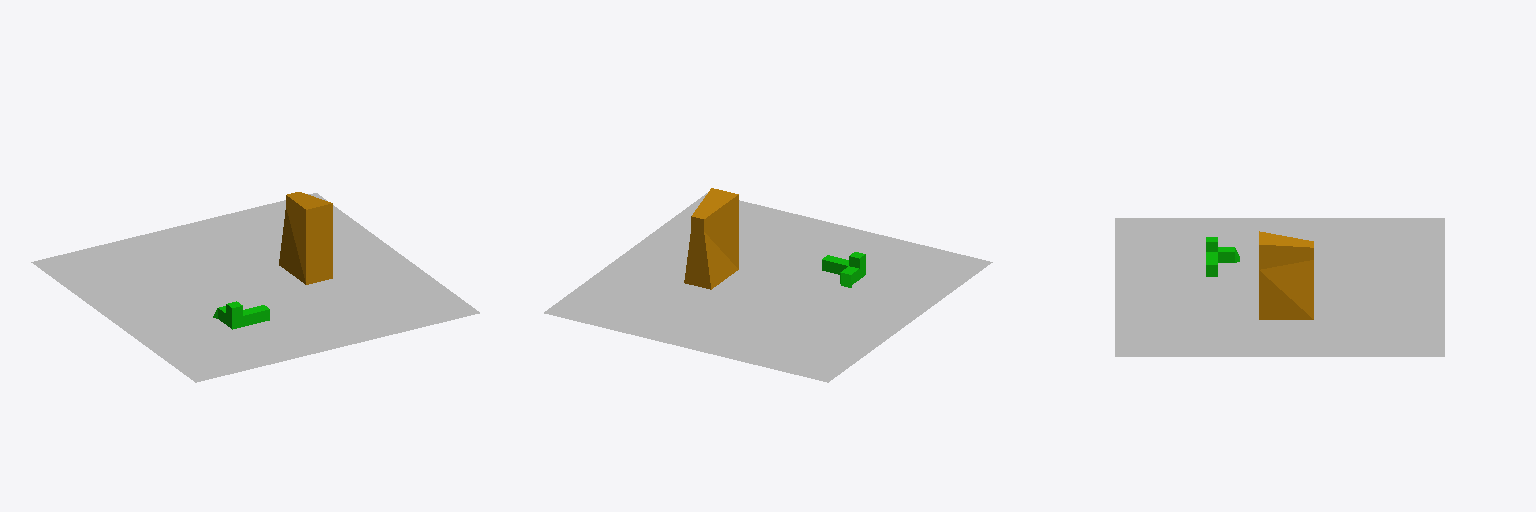
Rendered from test_map_colored_1.obj.
The picture shows the model from 3 angles: view 1: azimuth 30°, elevation 25°; view 2: azimuth 150°, elevation 25°; view 3: azimuth 270°, elevation 25°; orthographic projection.
Parts seen in each view (by area): view 1: Plane, Cube, Cube.001; view 2: Plane, Cube, Cube.001; view 3: Plane, Cube, Cube.001.
Part boxes in pixels (x1,y1,x2,y2): Plane: (31, 193, 479, 382); Cube: (279, 192, 332, 284); Cube.001: (213, 301, 269, 329); Plane: (544, 193, 992, 382); Cube: (684, 188, 738, 289); Cube.001: (822, 252, 865, 287); Plane: (1115, 218, 1444, 356); Cube: (1259, 231, 1313, 319); Cube.001: (1206, 237, 1239, 276).
Size of the model in its own units: 22.68 by 6.71 by 22.68.